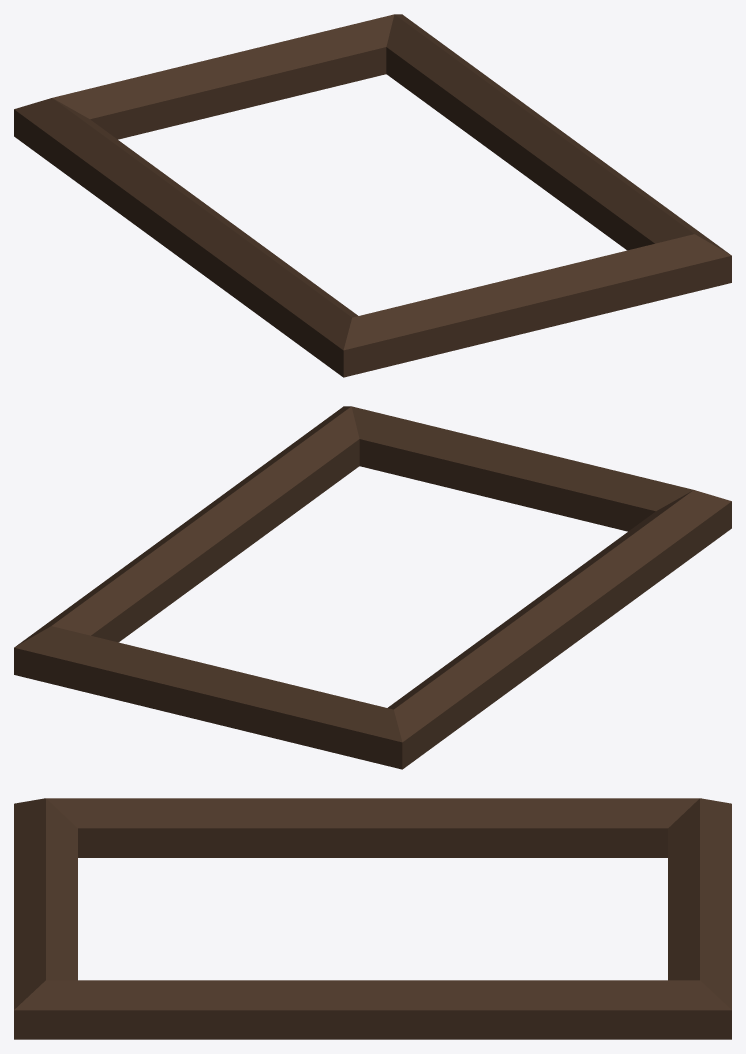
Rendered from ventana.fbx.
The picture shows the model from 3 angles, top to bottom: view 1: azimuth 30°, elevation 25°; view 2: azimuth 150°, elevation 25°; view 3: azimuth 270°, elevation 25°; orthographic projection. The views are drawn at different scales.
Visible parts, largest first — view 1: Plane; view 2: Plane; view 3: Plane.
Boxes of the visible parts, x1,y1,x2,y2 form: Plane: (14, 14, 731, 377); Plane: (14, 406, 731, 769); Plane: (14, 798, 731, 1039).
Size of the model in its own units: 938 by 101 by 1378.
